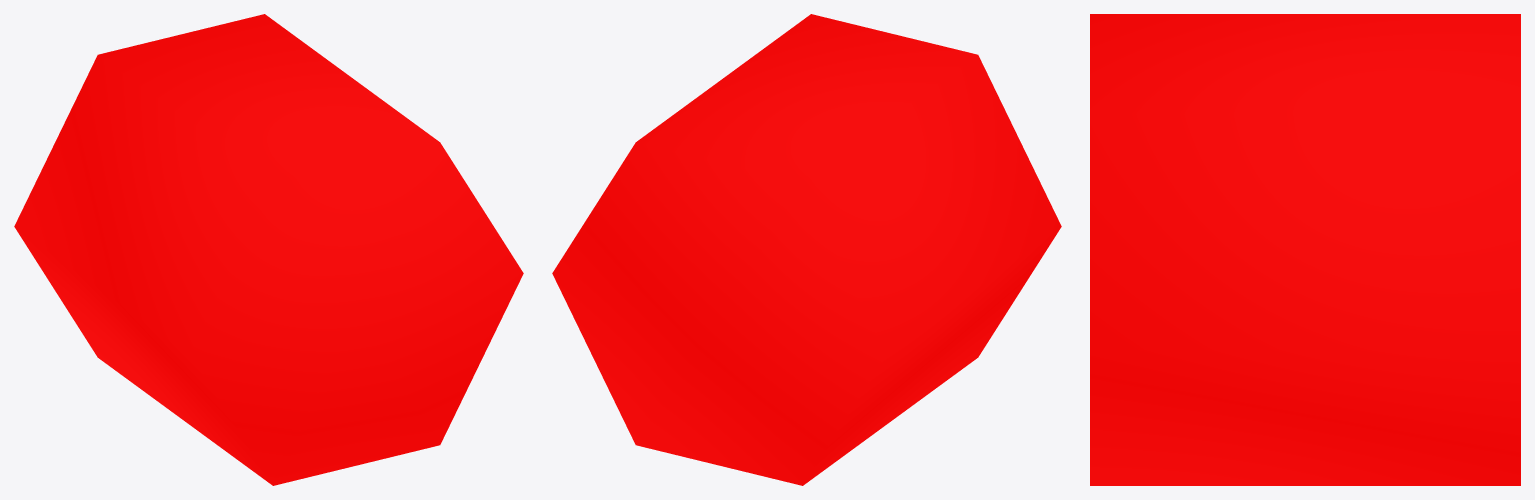
The model's file is emissive-hexprism-x3.glb.
The picture shows the model from 3 angles, left to right: view 1: azimuth 30°, elevation 25°; view 2: azimuth 150°, elevation 25°; view 3: azimuth 270°, elevation 25°; orthographic projection. The views are drawn at different scales.
Visible parts, largest first — view 1: world; view 2: world; view 3: world.
Boxes of the visible parts, box(x1,y1,x2,y2) form: world: box(14, 14, 523, 485); world: box(552, 14, 1061, 485); world: box(1090, 14, 1520, 485).
Bounding box in the file's own units: 1.1 × 0.9526 × 1.
